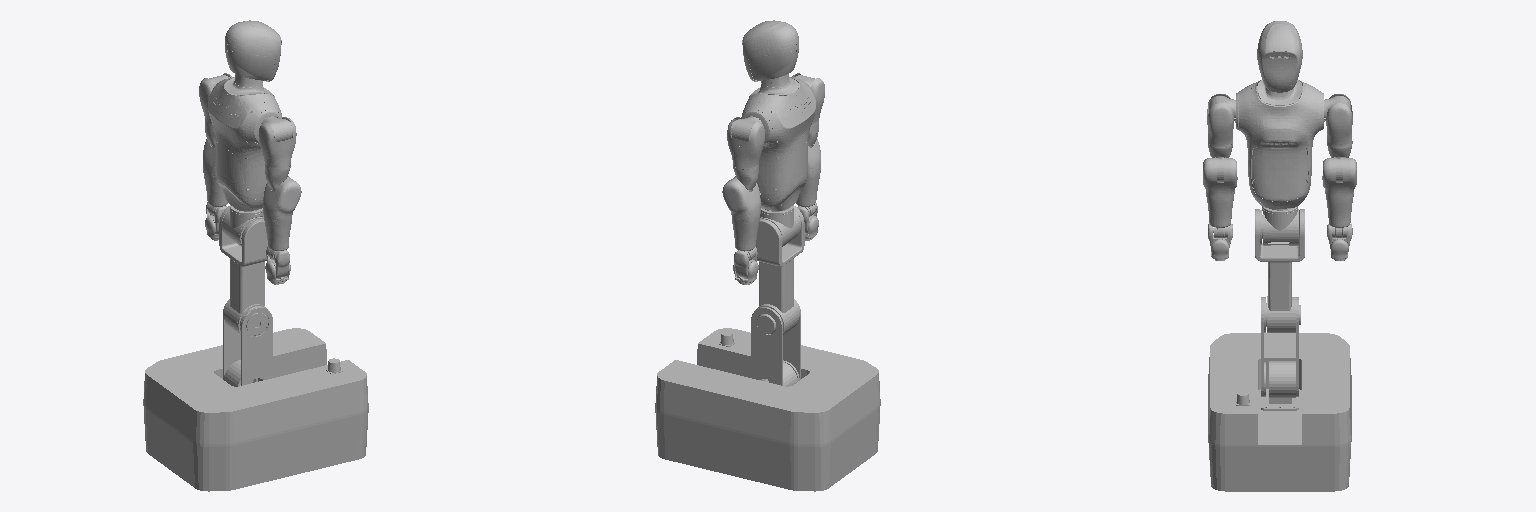
--- Render facts (derived) ---
Views: 3 orthographic renders of the robot side by side, from view 1: azimuth 30°, elevation 25°; view 2: azimuth 150°, elevation 25°; view 3: azimuth 270°, elevation 25°.
Robot: x100_with_rohand_lites — 52 links, 51 joints (36 revolute, 15 fixed); root link base_link; default pose: every joint at zero.
Visible links, largest first — view 1: base_link, torso_link, waist_pitch_middle_link, head_pitch_link, waist_pitch_lower_link, right_elbow_link, right_shoulder_roll_link, waist_pitch_upper_link, right_wrist_roll_link, left_wrist_roll_link; view 2: base_link, torso_link, waist_pitch_middle_link, head_pitch_link, waist_pitch_lower_link, left_shoulder_roll_link, left_elbow_link, waist_pitch_upper_link, left_wrist_roll_link, right_wrist_roll_link; view 3: base_link, torso_link, waist_pitch_middle_link, head_pitch_link, waist_base_link, waist_pitch_upper_link, right_shoulder_roll_link, left_shoulder_roll_link, left_elbow_link, right_elbow_link, right_wrist_roll_link, left_wrist_roll_link (+1 smaller).
Boxes of the visible links, box(x1,y1,x2,y2) form: base_link: box(143, 328, 368, 491); torso_link: box(208, 77, 282, 210); waist_pitch_middle_link: box(219, 206, 267, 335); head_pitch_link: box(225, 20, 281, 81); waist_pitch_lower_link: box(223, 299, 272, 385); right_elbow_link: box(263, 176, 301, 220); right_shoulder_roll_link: box(258, 117, 296, 169); waist_pitch_upper_link: box(222, 202, 263, 246); right_wrist_roll_link: box(263, 214, 291, 260); left_wrist_roll_link: box(203, 170, 227, 216); base_link: box(655, 328, 880, 491); torso_link: box(741, 77, 815, 210); waist_pitch_middle_link: box(756, 206, 804, 334); head_pitch_link: box(742, 20, 798, 81); waist_pitch_lower_link: box(751, 299, 800, 385); left_shoulder_roll_link: box(727, 117, 764, 169); left_elbow_link: box(722, 176, 760, 220); waist_pitch_upper_link: box(760, 202, 800, 246); left_wrist_roll_link: box(732, 215, 759, 260); right_wrist_roll_link: box(796, 170, 820, 216); base_link: box(1208, 333, 1351, 491); torso_link: box(1235, 80, 1324, 208); waist_pitch_middle_link: box(1255, 209, 1304, 332); head_pitch_link: box(1257, 21, 1302, 92); waist_base_link: box(1261, 361, 1298, 410); waist_pitch_upper_link: box(1262, 200, 1298, 245); right_shoulder_roll_link: box(1207, 94, 1233, 146); left_shoulder_roll_link: box(1326, 94, 1352, 146); left_elbow_link: box(1322, 158, 1356, 196); right_elbow_link: box(1203, 158, 1237, 196); right_wrist_roll_link: box(1206, 193, 1234, 237); left_wrist_roll_link: box(1325, 193, 1353, 237).
Size in the robot's own frame: 0.68 by 0.54 by 1.65 metres.
Meshes: 52 distinct files referenced, 28 mesh visuals loaded (28 binary STL); not drawn: 24 (reference not matched to a file when rendering).

robot.urdf — x100_with_rohand_lites:
<?xml version="1.0" encoding="utf-8"?>

<robot name="x100_with_rohand_lites">

  <link name="base_link">
    <visual>
      <origin xyz="0 0 0" rpy="0 0 0" />
      <geometry>
        <mesh filename="package://x100_description/mesh/meshes_x100/base_link.STL" />
      </geometry>
      <material name="">
        <color rgba="0.752941176470588 0.752941176470588 0.752941176470588 1" />
      </material>
    </visual>
    <collision>
      <origin xyz="0 0 0" rpy="0 0 0" />
      <geometry>
        <mesh filename="package://x100_description/mesh/meshes_x100/base_link.STL" />
      </geometry>
    </collision>
  </link>
  <!-- <link name="floor_link">
    <inertial>
      <origin xyz="0 0 0" rpy="0 0 0" />
      <mass value="0.0001" />
      <inertia ixx="9.6e-06" ixy="0.0" ixz="0.0" iyy="9.6e-06" iyz="0.0" izz="9.6e-06" />
    </inertial>
    <visual>
    <origin xyz="0 0 0" rpy="0 0 0" />
      <geometry>
        <sphere radius="0.05"/>
      </geometry>
      <material name="">
        <color rgba="0.1 0.4 0.1 1" />
      </material>
    </visual>
  </link>
  <joint name="floor_joint" type="fixed" dont_collapse="true">
    <origin xyz="0.0 0.0 -0.18" rpy="0 0 0" />
    <parent link="base_link" />
    <child link="floor_link" />
  </joint> -->

  <link name="AGV_yaw_left_link">
    <inertial>
      <origin xyz="-2.20127873151732E-08 -0.0308114801670985 -0.0545910530423015" rpy="0 0 0" />
      <mass value="0.245281608487464" />
      <inertia ixx="0.000503753735624281" ixy="4.10082374702644E-10" ixz="1.937854081737E-10" iyy="0.000417106600465128" iyz="-0.000178452953060026" izz="0.000165582706992007" />
    </inertial>
    <visual>
      <origin xyz="0 0 0" rpy="0 0 0" />
      <geometry>
        <mesh filename="package://x100_description/mesh/meshes_x100/AGV_yaw_left_link.STL" />
      </geometry>
      <material name="">
        <color rgba="0.862745098039216 0.549019607843137 0.545098039215686 1" />
      </material>
    </visual>
    <collision>
      <origin xyz="0 0 0" rpy="0 0 0" />
      <geometry>
        <mesh filename="package://x100_description/mesh/meshes_x100/AGV_yaw_left_link.STL" />
      </geometry>
    </collision>
  </link>
  <joint name="AGV_yaw_left_joint" type="fixed">
    <origin xyz="0.23812 0.16 0.0025" rpy="0 0 0" />
    <parent link="base_link" />
    <child link="AGV_yaw_left_link" />
  </joint>
  <link name="AGV_move_left_link">
    <inertial>
      <origin xyz="1.3125436945649E-06 0.000669578114391972 -6.87249532782541E-07" rpy="0 0 0" />
      <mass value="1.69111524658837" />
      <inertia ixx="0.00346749257557015" ixy="1.24371544208643E-07" ixz="3.99749317493181E-08" iyy="0.00664551858147923" iyz="-6.96591659784327E-08" izz="0.00346752087830564" />
    </inertial>
    <visual>
      <origin xyz="0 0 0" rpy="0 0 0" />
      <geometry>
        <mesh filename="package://x100_description/mesh/meshes_x100/AGV_move_left_link.STL" />
      </geometry>
      <material name="">
        <color rgba="0.752941176470588 0.752941176470588 0.752941176470588 1" />
      </material>
    </visual>
    <collision>
      <origin xyz="0 0 0" rpy="0 0 0" />
      <geometry>
        <mesh filename="package://x100_description/mesh/meshes_x100/AGV_move_left_link.STL" />
      </geometry>
    </collision>
  </link>
  <joint name="AGV_move_left_joint" type="fixed">
    <origin xyz="0 0.003 -0.113" rpy="0 0 0" />
    <parent link="AGV_yaw_left_link" />
    <child link="AGV_move_left_link" />
  </joint>
  <link name="AGV_yaw_right_link">
    <inertial>
      <origin xyz="2.21773192865538E-08 0.0308107310557345 -0.0545906819417435" rpy="0 0 0" />
      <mass value="0.245284643073316" />
      <inertia ixx="0.000503766633726159" ixy="1.98479609326591E-10" ixz="-2.27302245478898E-10" iyy="0.000417108589011739" iyz="0.000178458897580688" izz="0.000165591414689412" />
    </inertial>
    <visual>
      <origin xyz="0 0 0" rpy="0 0 0" />
      <geometry>
        <mesh filename="package://x100_description/mesh/meshes_x100/AGV_yaw_right_link.STL" />
      </geometry>
      <material name="">
        <color rgba="0.862745098039216 0.549019607843137 0.545098039215686 1" />
      </material>
    </visual>
    <collision>
      <origin xyz="0 0 0" rpy="0 0 0" />
      <geometry>
        <mesh filename="package://x100_description/mesh/meshes_x100/AGV_yaw_right_link.STL" />
      </geometry>
    </collision>
  </link>
  <joint name="AGV_yaw_right_joint" type="fixed">
    <origin xyz="0.23812 -0.16 0.0025" rpy="0 0 0" />
    <parent link="base_link" />
    <child link="AGV_yaw_right_link" />
  </joint>
  <link name="AGV_move_right_link">
    <inertial>
      <origin xyz="3.60312727376577E-07 -0.000669578114401742 -1.4472475801941E-06" rpy="0 0 0" />
      <mass value="1.69111524658912" />
      <inertia ixx="0.00346753700500628" ixy="-3.9833827483275E-08" ixz="2.96899812584189E-08" iyy="0.00664551858147842" iyz="1.36855657825959E-07" izz="0.0034674764488687" />
    </inertial>
    <visual>
      <origin xyz="0 0 0" rpy="0 0 0" />
      <geometry>
        <mesh filename="package://x100_description/mesh/meshes_x100/AGV_move_right_link.STL" />
      </geometry>
      <material name="">
        <color rgba="0.752941176470588 0.752941176470588 0.752941176470588 1" />
      </material>
    </visual>
    <collision>
      <origin xyz="0 0 0" rpy="0 0 0" />
      <geometry>
        <mesh filename="package://x100_description/mesh/meshes_x100/AGV_move_right_link.STL" />
      </geometry>
    </collision>
  </link>
  <joint name="AGV_move_right_joint" type="fixed">
    <origin xyz="0 -0.003 -0.113" rpy="0 0 0" />
    <parent link="AGV_yaw_right_link" />
    <child link="AGV_move_right_link" />
  </joint>
  <link name="AGV_yaw_behind_link">
    <inertial>
      <origin xyz="-2.20127576722184E-08 -0.030811480167095 -0.0545910530423015" rpy="0 0 0" />
      <mass value="0.245281608487463" />
      <inertia ixx="0.00050375373562428" ixy="4.10082557039496E-10" ixz="1.93785730569901E-10" iyy="0.000417106600465126" iyz="-0.000178452953060025" izz="0.000165582706992006" />
    </inertial>
    <visual>
      <origin xyz="0 0 0" rpy="0 0 0" />
      <geometry>
        <mesh filename="package://x100_description/mesh/meshes_x100/AGV_yaw_behind_link.STL" />
      </geometry>
      <material name="">
        <color rgba="0.862745098039216 0.549019607843137 0.545098039215686 1" />
      </material>
    </visual>
    <collision>
      <origin xyz="0 0 0" rpy="0 0 0" />
      <geometry>
        <mesh filename="package://x100_description/mesh/meshes_x100/AGV_yaw_behind_link.STL" />
      </geometry>
    </collision>
  </link>
  <joint name="AGV_yaw_behind_joint" type="fixed">
    <origin xyz="-0.23812 0 0.0025" rpy="0 0 0" />
    <parent link="base_link" />
    <child link="AGV_yaw_behind_link" />
  </joint>
  <link name="AGV_move_behind_link">
    <inertial>
      <origin xyz="-6.00844289960767E-07 0.000669578114403075 -1.36504100609058E-06" rpy="0 0 0" />
      <mass value="1.69111524658924" />
      <inertia ixx="0.0034675253215695" ixy="-6.24954542992371E-08" ixz="-3.81116268341795E-08" iyy="0.00664551858147844" iyz="-1.28103564388489E-07" izz="0.0034674881323055" />
    </inertial>
    <visual>
      <origin xyz="0 0 0" rpy="0 0 0" />
      <geometry>
        <mesh filename="package://x100_description/mesh/meshes_x100/AGV_move_behind_link.STL" />
      </geometry>
      <material name="">
        <color rgba="0.752941176470588 0.752941176470588 0.752941176470588 1" />
      </material>
    </visual>
    <collision>
      <origin xyz="0 0 0" rpy="0 0 0" />
      <geometry>
        <mesh filename="package://x100_description/mesh/meshes_x100/AGV_move_behind_link.STL" />
      </geometry>
    </collision>
  </link>
  <joint name="AGV_move_behind_joint" type="fixed">
    <origin xyz="0 0.003 -0.113" rpy="0 0 0" />
    <parent link="AGV_yaw_behind_link" />
    <child link="AGV_move_behind_link" />
  </joint>
  <link name="waist_base_link">
    <inertial>
      <origin xyz="2.09526840322383E-13 0.00265003390392317 0.0524998502660636" rpy="0 0 0" />
      <mass value="1.49396139233906" />
      <inertia ixx="0.00496258543415969" ixy="-1.13293216718744E-15" ixz="1.04959160440269E-14" iyy="0.00631292060029423" iyz="-0.000129244440401722" izz="0.00402504155232433" />
    </inertial>
    <visual>
      <origin xyz="0 0 0" rpy="0 0 0" />
      <geometry>
        <mesh filename="package://x100_description/mesh/meshes_x100/waist_base_link.STL" />
      </geometry>
      <material name="">
        <color rgba="0.752941176470588 0.752941176470588 0.752941176470588 1" />
      </material>
    </visual>
    <collision>
      <origin xyz="0 0 0" rpy="0 0 0" />
      <geometry>
        <mesh filename="package://x100_description/mesh/meshes_x100/waist_base_link.STL" />
      </geometry>
    </collision>
  </link>
  <joint name="waist_base_joint" type="fixed">
    <origin xyz="-0.033123 0 0" rpy="0 0 0" />
    <parent link="base_link" />
    <child link="waist_base_link" />
    <axis xyz="0 0 0" />
  </joint>
  <link name="waist_pitch_lower_link">
    <inertial>
      <origin xyz="2.96984659087229E-15 -0.0141552313426734 0.124999999999997" rpy="0 0 0" />
      <mass value="2.27314251059694" />
      <inertia ixx="0.0131039481721402" ixy="-4.53990923117907E-19" ixz="-2.62714093901037E-15" iyy="0.0162447317794585" iyz="1.61157118440538E-18" izz="0.00317648335707216" />
    </inertial>
    <visual>
      <origin xyz="0 0 0" rpy="0 0 0" />
      <geometry>
        <mesh filename="package://x100_description/mesh/meshes_x100/waist_pitch_lower_link.STL" />
      </geometry>
      <material name="">
        <color rgba="0.752941176470588 0.752941176470588 0.752941176470588 1" />
      </material>
    </visual>
    <collision>
      <origin xyz="0 0 0" rpy="0 0 0" />
      <geometry>
        <mesh filename="package://x100_description/mesh/meshes_x100/waist_pitch_lower_link.STL" />
      </geometry>
    </collision>
  </link>
  <joint name="waist_pitch_lower_joint" type="fixed">
    <origin xyz="0 0 0.083" rpy="0 0 0" />
    <parent link="waist_base_link" />
    <child link="waist_pitch_lower_link" />
    <axis xyz="0 1 0" />
    <limit lower="-0.26" upper="1.58" effort="20" velocity="1.5" acceleration="3.0" />
  </joint>
  <link name="waist_pitch_middle_link">
    <inertial>
      <origin xyz="5.09321188148226E-07 -0.000209304781470008 0.101942053324824" rpy="0 0 0" />
      <mass value="5.43354669139441" />
      <inertia ixx="0.013154147426128" ixy="-9.19180998800125E-08" ixz="1.36829596153063E-07" iyy="0.0148906837969918" iyz="-3.11776079023088E-06" izz="0.00923980974272249" />
    </inertial>
    <visual>
      <origin xyz="0 0 0" rpy="0 0 0" />
      <geometry>
        <mesh filename="package://x100_description/mesh/meshes_x100/waist_pitch_middle_link.STL" />
      </geometry>
      <material name="">
        <color rgba="0.752941176470588 0.752941176470588 0.752941176470588 1" />
      </material>
    </visual>
    <collision>
      <origin xyz="0 0 0" rpy="0 0 0" />
      <geometry>
        <mesh filename="package://x100_description/mesh/meshes_x100/waist_pitch_middle_link.STL" />
      </geometry>
    </collision>
  </link>
  <joint name="waist_pitch_middle_joint" type="fixed">
    <origin xyz="0 0 0.25" rpy="0 0 0" />
    <parent link="waist_pitch_lower_link" />
    <child link="waist_pitch_middle_link" />
    <axis xyz="0 1 0" />
    <limit lower="-2.62" upper="1.58" effort="20" velocity="1.5" acceleration="3.0" />
  </joint>
  <link name="waist_pitch_upper_link">
    <inertial>
      <origin xyz="-0.000145504008478729 0.00493260548813689 0.0485823662178412" rpy="0 0 0" />
      <mass value="5.38731120662336" />
      <inertia ixx="0.01" ixy="0" ixz="0" iyy="0.01" iyz="0" izz="0.01" />
    </inertial>
    <visual>
      <origin xyz="0 0 0" rpy="0 0 0" />
      <geometry>
        <mesh filename="package://x100_description/mesh/meshes_x100/waist_pitch_upper_link.STL" />
      </geometry>
      <material name="">
        <color rgba="0.752941176470588 0.752941176470588 0.752941176470588 1" />
      </material>
    </visual>
    <collision>
      <origin xyz="0 0 0" rpy="0 0 0" />
      <geometry>
        <mesh filename="package://x100_description/mesh/meshes_x100/waist_pitch_upper_link.STL" />
      </geometry>
    </collision>
  </link>
  <joint name="waist_pitch_upper_joint" type="fixed">
    <origin xyz="0 0 0.34" rpy="0 0 0" />
    <parent link="waist_pitch_middle_link" />
    <child link="waist_pitch_upper_link" />
    <axis xyz="0 1 0" />
    <limit lower="-1.75" upper="1.75" effort="20" velocity="1.5" acceleration="3.0" />
  </joint>
  <link name="torso_link">
    <inertial>
      <origin xyz="4.33469348894155E-05 -6.59120500852507E-09 0.193501192535377" rpy="0 0 0" />
      <mass value="9.64909156541158" />
      <inertia ixx="0.041134238011689" ixy="2.43191640635395E-11" ixz="1.74260275070872E-07" iyy="0.0404085995567576" iyz="-4.83252761210217E-08" izz="0.00912370613854259" />
    </inertial>
    <visual>
      <origin xyz="0 0 0" rpy="0 0 0" />
      <geometry>
        <mesh filename="package://x100_description/mesh/meshes_x100/torso_link.STL" />
      </geometry>
      <material name="">
        <color rgba="0.752941176470588 0.752941176470588 0.752941176470588 1" />
      </material>
    </visual>
    <collision>
      <origin xyz="0 0 0" rpy="0 0 0" />
      <geometry>
        <mesh filename="package://x100_description/mesh/meshes_x100/torso_link.STL" />
      </geometry>
    </collision>
  </link>
  <joint name="torso_joint" type="fixed">
    <origin xyz="0 0 0.1921" rpy="0 0 0" />
    <parent link="waist_pitch_upper_link" />
    <child link="torso_link" />
  </joint>
  <link name="head_yaw_link">
    <inertial>
      <origin xyz="0.0275842176371693 0.00217561201075011 0.0500852030582835" rpy="0 0 0" />
      <mass value="0.627068603775774" />
      <inertia ixx="0.000290069729963355" ixy="6.30683945111433E-19" ixz="4.73629825279625E-06" iyy="0.00029461278597458" iyz="-6.11635629331064E-20" izz="0.000305874917451081" />
    </inertial>
    <visual>
      <origin xyz="0 0 0" rpy="0 0 0" />
      <geometry>
        <mesh filename="package://x100_description/mesh/meshes_x100/head_yaw_link.STL" />
      </geometry>
      <material name="">
        <color rgba="0.752941176470588 0.752941176470588 0.752941176470588 1" />
      </material>
    </visual>
    <collision>
      <origin xyz="0 0 0" rpy="0 0 0" />
      <geometry>
        <mesh filename="package://x100_description/mesh/meshes_x100/head_yaw_link.STL" />
      </geometry>
    </collision>
  </link>
  <joint name="head_yaw_joint" type="fixed">
    <origin xyz="0 0 0.372" rpy="0 0 0" />
    <parent link="torso_link" />
    <child link="head_yaw_link" />
  </joint>
  <link name="head_pitch_link">
    <inertial>
      <origin xyz="-0.00267989529824948 -0.000252755812069182 0.0657034221106612" rpy="0 0 0" />
      <mass value="0.3980723351526" />
      <inertia ixx="0.000428232869052577" ixy="-5.48580750729812E-07" ixz="3.45478422004712E-05" iyy="0.000400329046827211" iyz="-1.1368304582303E-06" izz="0.000294783298626689" />
    </inertial>
    <visual>
      <origin xyz="0 0 0" rpy="0 0 0" />
      <geometry>
        <mesh filename="package://x100_description/mesh/meshes_x100/head_pitch_link.STL" />
      </geometry>
      <material name="">
        <color rgba="0.752941176470588 0.752941176470588 0.752941176470588 1" />
      </material>
    </visual>
    <collision>
      <origin xyz="0 0 0" rpy="0 0 0" />
      <geometry>
        <mesh filename="package://x100_description/mesh/meshes_x100/head_pitch_link.STL" />
      </geometry>
    </collision>
  </link>
  <joint name="head_pitch_joint" type="fixed">
    <origin xyz="0.035 0 0.059" rpy="0 0 0" />
    <parent link="head_yaw_link" />
    <child link="head_pitch_link" />
  </joint>
  <link name="right_shoulder_pitch_link">
    <inertial>
      <origin xyz="-0.00367675986297206 -0.0542463290286199 2.58812120668139E-06" rpy="0 0 0" />
      <mass value="0.848985464266451" />
      <inertia ixx="0.00101435274555589" ixy="-6.52592313780756E-06" ixz="-2.67015667645939E-09" iyy="0.000703710291045494" iyz="-5.55773825089475E-08" izz="0.000777317035946405" />
    </inertial>
    <visual>
      <origin xyz="0 0 0" rpy="0 0 0" />
      <geometry>
        <mesh filename="package://x100_description/mesh/meshes_x100/right_shoulder_pitch_link.STL" />
      </geometry>
      <material name="">
        <color rgba="0.752941176470588 0.752941176470588 0.752941176470588 1" />
      </material>
    </visual>
    <collision>
      <origin xyz="0 0 0" rpy="0 0 0" />
      <geometry>
        <mesh filename="package://x100_description/mesh/meshes_x100/right_shoulder_pitch_link.STL" />
      </geometry>
    </collision>
  </link>
  <joint name="right_shoulder_pitch_joint" type="revolute">
    <origin xyz="0 -0.1476 0.2615" rpy="0 0 0" />
    <parent link="torso_link" />
    <child link="right_shoulder_pitch_link" />
    <axis xyz="0 1 0" />
    <limit lower="-2.97" upper="2.97" effort="10" velocity="1.5" acceleration="3.0" />
  </joint>
  <link name="right_shoulder_roll_link">
    <inertial>
      <origin xyz="-0.00238241924076597 -1.78570058793348E-05 -0.0802603066944463" rpy="0 0 0" />
      <mass value="0.933711800407855" />
      <inertia ixx="0.00119865742149175" ixy="-6.83313664569594E-09" ixz="7.82145055807086E-05" iyy="0.00144607852532589" iyz="-7.44656033059175E-08" izz="0.000879151973489193" />
    </inertial>
    <visual>
      <origin xyz="0 0 0" rpy="0 0 0" />
      <geometry>
        <mesh filename="package://x100_description/mesh/meshes_x100/right_shoulder_roll_link.STL" />
      </geometry>
      <material name="">
        <color rgba="0.752941176470588 0.752941176470588 0.752941176470588 1" />
      </material>
    </visual>
    <collision>
      <origin xyz="0 0 0" rpy="0 0 0" />
      <geometry>
        <mesh filename="package://x100_description/mesh/meshes_x100/right_shoulder_roll_link.STL" />
      </geometry>
    </collision>
  </link>
  <joint name="right_shoulder_roll_joint" type="revolute">
    <origin xyz="0 -0.062 0" rpy="0 0 0" />
    <parent link="right_shoulder_pitch_link" />
    <child link="right_shoulder_roll_link" />
    <axis xyz="-1 0 0" />
    <limit lower="-0.1" upper="3.23" effort="10" velocity="1.5" acceleration="3.0" />
  </joint>
  <link name="right_shoulder_yaw_link">
    <inertial>
      <origin xyz="0.0189918826968868 0.00594635691085862 -0.085403773275452" rpy="0 0 0" />
      <mass value="0.434423544379079" />
      <inertia ixx="0.000408182306507528" ixy="2.16892318900535E-06" ixz="6.02795239356358E-05" iyy="0.000586839962048929" iyz="-3.71823771866569E-06" izz="0.000256135143070958" />
    </inertial>
    <visual>
      <origin xyz="0 0 0" rpy="0 0 0" />
      <geometry>
        <mesh filename="package://x100_description/mesh/meshes_x100/right_shoulder_yaw_link.STL" />
      </geometry>
      <material name="">
        <color rgba="0.752941176470588 0.752941176470588 0.752941176470588 1" />
      </material>
    </visual>
    <collision>
      <origin xyz="0 0 0" rpy="0 0 0" />
      <geometry>
        <mesh filename="package://x100_description/mesh/meshes_x100/right_shoulder_yaw_link.STL" />
      </geometry>
    </collision>
  </link>
  <joint name="right_shoulder_yaw_joint" type="revolute">
    <origin xyz="0 0 -0.1226" rpy="0 0 0" />
    <parent link="right_shoulder_roll_link" />
    <child link="right_shoulder_yaw_link" />
    <axis xyz="0 0 1" />
    <limit lower="-2.97" upper="2.97" effort="10" velocity="1.5" acceleration="3.0" />
  </joint>
  <link name="right_elbow_link">
    <inertial>
      <origin xyz="-0.019682834096401 0.00614384016014732 -0.0604081681694035" rpy="0 0 0" />
      <mass value="0.58376847457249" />
      <inertia ixx="0.000342571414101762" ixy="-3.1037867572582E-07" ixz="-3.94693000973267E-05" iyy="0.000378503966929614" iyz="1.06104636163208E-06" izz="0.000235756043947694" />
    </inertial>
    <visual>
      <origin xyz="0 0 0" rpy="0 0 0" />
      <geometry>
        <mesh filename="package://x100_description/mesh/meshes_x100/right_elbow_link.STL" />
      </geometry>
      <material name="">
        <color rgba="0.752941176470588 0.752941176470588 0.752941176470588 1" />
      </material>
    </visual>
    <collision>
      <origin xyz="0 0 0" rpy="0 0 0" />
      <geometry>
        <mesh filename="package://x100_description/mesh/meshes_x100/right_elbow_link.STL" />
      </geometry>
    </collision>
  </link>
  <joint name="right_elbow_joint" type="revolute">
    <origin xyz="0.024 0 -0.0974" rpy="0 0 0" />
    <parent link="right_shoulder_yaw_link" />
    <child link="right_elbow_link" />
    <axis xyz="0 1 0" />
    <limit lower="-2.93" upper="0" effort="10" velocity="1.5" acceleration="3.0" />
  </joint>
  <link name="right_wrist_roll_link">
    <inertial>
      <origin xyz="6.33741171502528E-06 0.00322995701196074 -0.0870317620723344" rpy="0 0 0" />
      <mass value="0.50628831282003" />
      <inertia ixx="0.000647960138543212" ixy="2.39225855360338E-08" ixz="3.85045712031872E-08" iyy="0.000771891906211482" iyz="1.41932992276395E-06" izz="0.000159980806279759" />
    </inertial>
    <visual>
      <origin xyz="0 0 0" rpy="0 0 0" />
      <geometry>
        <mesh filename="package://x100_description/mesh/meshes_x100/right_wrist_roll_link.STL" />
      </geometry>
      <material name="">
        <color rgba="0.752941176470588 0.752941176470588 0.752941176470588 1" />
      </material>
    </visual>
    <collision>
      <origin xyz="0 0 0" rpy="0 0 0" />
      <geometry>
        <mesh filename="package://x100_description/mesh/meshes_x100/right_wrist_roll_link.STL" />
      </geometry>
    </collision>
  </link>
  <joint name="right_wrist_roll_joint" type="revolute">
    <origin xyz="-0.024 0 -0.1071" rpy="0 0 0" />
    <parent link="right_elbow_link" />
    <child link="right_wrist_roll_link" />
    <axis xyz="0 0 1" />
    <limit lower="-2.97" upper="2.97" effort="10" velocity="1.5" acceleration="3.0" />
  </joint>
  <link name="right_wrist_pitch_link">
    <inertial>
      <origin xyz="0.00692425572694247 -0.000314175932120797 -0.0445846340712968" rpy="0 0 0" />
      <mass value="0.267350739628338" />
      <inertia ixx="0.000151332196130114" ixy="-7.35240847816505E-07" ixz="-1.245851354345E-06" iyy="9.72372255189296E-05" iyz="-1.69762837430636E-05" izz="7.60269950821654E-05" />
    </inertial>
    <visual>
      <origin xyz="0 0 0" rpy="0 0 0" />
      <geometry>
        <mesh filename="package://x100_description/mesh/meshes_x100/right_wrist_pitch_link.STL" />
      </geometry>
      <material name="">
        <color rgba="0.752941176470588 0.752941176470588 0.752941176470588 1" />
      </material>
    </visual>
    <collision>
      <origin xyz="0 0 0" rpy="0 0 0" />
      <geometry>
        <mesh filename="package://x100_description/mesh/meshes_x100/right_wrist_pitch_link.STL" />
      </geometry>
    </collision>
  </link>
  <joint name="right_wrist_pitch_joint" type="revolute">
    <origin xyz="0 -5E-05 -0.1389" rpy="0 0 0" />
    <parent link="right_wrist_roll_link" />
    <child link="right_wrist_pitch_link" />
    <axis xyz="0 1 0" />
    <limit lower="-1.83" upper="1.83" effort="10" velocity="1.5" acceleration="3.0" />
  </joint>
  <link name="right_wrist_yaw_link">
    <inertial>
      <origin xyz="-0.00113349353882937 0.000182092284429197 -0.0313472200645663" rpy="0 0 0" />
      <mass value="0.111035645621271" />
      <inertia ixx="3.38338924623756E-05" ixy="1.24787404345728E-12" ixz="-6.25606490323498E-06" iyy="4.01749527734222E-05" iyz="1.39960038102222E-07" izz="4.39077979186707E-05" />
    </inertial>
    <visual>
      <origin xyz="0 0 0" rpy="0 0 0" />
      <geometry>
        <mesh filename="package://x100_description/mesh/meshes_x100/right_wrist_yaw_link.STL" />
      </geometry>
      <material name="">
        <color rgba="0.752941176470588 0.752941176470588 0.752941176470588 1" />
      </material>
    </visual>
    <collision>
      <origin xyz="0 0 0" rpy="0 0 0" />
      <geometry>
        <mesh filename="package://x100_description/mesh/meshes_x100/right_wrist_yaw_link.STL" />
      </geometry>
    </collision>
  </link>
  <joint name="right_wrist_yaw_joint" type="revolute">
    <origin xyz="-0.00235 5E-05 -0.054" rpy="0 0 0" />
    <parent link="right_wrist_pitch_link" />
    <child link="right_wrist_yaw_link" />
    <axis xyz="1 0 0" />
    <limit lower="-1.57" upper="1.57" effort="10" velocity="1.5" acceleration="3.0" />
  </joint>
  <link name="left_shoulder_pitch_link">
    <inertial>
      <origin xyz="0.00367675986297346 0.0542463290286198 2.58812120934593E-06" rpy="0 0 0" />
      <mass value="0.848985464266447" />
      <inertia ixx="0.00101435274555589" ixy="-6.52592313780649E-06" ixz="2.67015667694552E-09" iyy="0.000703710291045487" iyz="5.55773825079637E-08" izz="0.000777317035946401" />
    </inertial>
    <visual>
      <origin xyz="0 0 0" rpy="0 0 0" />
      <geometry>
        <mesh filename="package://x100_description/mesh/meshes_x100/left_shoulder_pitch_link.STL" />
      </geometry>
      <material name="">
        <color rgba="0.752941176470588 0.752941176470588 0.752941176470588 1" />
      </material>
    </visual>
    <collision>
      <origin xyz="0 0 0" rpy="0 0 0" />
      <geometry>
        <mesh filename="package://x100_description/mesh/meshes_x100/left_shoulder_pitch_link.STL" />
      </geometry>
    </collision>
  </link>
  <joint name="left_shoulder_pitch_joint" type="revolute">
    <origin xyz="0 0.1476 0.2615" rpy="0 0 0" />
    <parent link="torso_link" />
    <child link="left_shoulder_pitch_link" />
    <axis xyz="0 1 0" />
    <limit lower="-2.97" upper="2.97" effort="10" velocity="1.5" acceleration="3.0" />
  </joint>
  <link name="left_shoulder_roll_link">
    <inertial>
      <origin xyz="0.00238241927309023 1.78571130299288E-05 -0.0802603069606076" rpy="0 0 0" />
      <mass value="0.933711806710216" />
      <inertia ixx="0.00119865742150416" ixy="-6.8331452308249E-09" ixz="-7.82145056337858E-05" iyy="0.00144607852706074" iyz="7.44654864441209E-08" izz="0.000879151975219498" />
    </inertial>
    <visual>
      <origin xyz="0 0 0" rpy="0 0 0" />
      <geometry>
        <mesh filename="package://x100_description/mesh/meshes_x100/left_shoulder_roll_link.STL" />
      </geometry>
      <material name="">
        <color rgba="0.752941176470588 0.752941176470588 0.752941176470588 1" />
      </material>
    </visual>
    <collision>
      <origin xyz="0 0 0" rpy="0 0 0" />
      <geometry>
        <mesh filename="package://x100_description/mesh/meshes_x100/left_shoulder_roll_link.STL" />
      </geometry>
    </collision>
  </link>
  <joint name="left_shoulder_roll_joint" type="revolute">
    <origin xyz="0 0.062 0" rpy="0 0 0" />
    <parent link="left_shoulder_pitch_link" />
    <child link="left_shoulder_roll_link" />
    <axis xyz="1 0 0" />
    <limit lower="-0.1" upper="3.23" effort="10" velocity="1.5" acceleration="3.0" />
  </joint>
  <link name="left_shoulder_yaw_link">
    <inertial>
      <origin xyz="0.0189918829302687 0.00594635656039608 -0.0854037727048453" rpy="0 0 0" />
      <mass value="0.43442353862093" />
      <inertia ixx="0.000408182305701526" ixy="2.16892334074131E-06" ixz="6.02795231435692E-05" iyy="0.000586839960456974" iyz="-3.71823751035217E-06" izz="0.000256135142270292" />
    </inertial>
    <visual>
      <origin xyz="0 0 0" rpy="0 0 0" />
      <geometry>
        <mesh filename="package://x100_description/mesh/meshes_x100/left_shoulder_yaw_link.STL" />
      </geometry>
      <material name="">
        <color rgba="0.752941176470588 0.752941176470588 0.752941176470588 1" />
      </material>
    </visual>
    <collision>
      <origin xyz="0 0 0" rpy="0 0 0" />
      <geometry>
        <mesh filename="package://x100_description/mesh/meshes_x100/left_shoulder_yaw_link.STL" />
      </geometry>
    </collision>
  </link>
  <joint name="left_shoulder_yaw_joint" type="revolute">
    <origin xyz="0 0 -0.1226" rpy="0 0 0" />
    <parent link="left_shoulder_roll_link" />
    <child link="left_shoulder_yaw_link" />
    <axis xyz="0 0 1" />
    <limit lower="-2.97" upper="2.97" effort="10" velocity="1.5" acceleration="3.0" />
  </joint>
  <link name="left_elbow_link">
    <inertial>
      <origin xyz="-0.0196828338193763 0.0061438404656593 -0.0604081675829152" rpy="0 0 0" />
      <mass value="0.583768481365716" />
      <inertia ixx="0.000342571334166883" ixy="-3.103786399656E-07" ixz="-3.94692997000234E-05" iyy="0.000378503572130911" iyz="1.0610462595637E-06" izz="0.000235755565732729" />
    </inertial>
    <visual>
      <origin xyz="0 0 0" rpy="0 0 0" />
      <geometry>
        <mesh filename="package://x100_description/mesh/meshes_x100/left_elbow_link.STL" />
      </geometry>
      <material name="">
        <color rgba="0.752941176470588 0.752941176470588 0.752941176470588 1" />
      </material>
    </visual>
    <collision>
      <origin xyz="0 0 0" rpy="0 0 0" />
      <geometry>
        <mesh filename="package://x100_description/mesh/meshes_x100/left_elbow_link.STL" />
      </geometry>
    </collision>
  </link>
  <joint name="left_elbow_joint" type="revolute">
    <origin xyz="0.024 0 -0.0974" rpy="0 0 0" />
    <parent link="left_shoulder_yaw_link" />
    <child link="left_elbow_link" />
    <axis xyz="0 1 0" />
    <limit lower="-2.93" upper="0" effort="10" velocity="1.5" acceleration="3.0" />
  </joint>
  <link name="left_wrist_roll_link">
    <inertial>
      <origin xyz="6.33741555387118E-06 0.00322995701444354 -0.0870317620689255" rpy="0 0 0" />
      <mass value="0.506288312825421" />
      <inertia ixx="0.000647960138446467" ixy="2.39225898712566E-08" ixz="3.85046178915717E-08" iyy="0.00077189190611103" iyz="1.41932991467436E-06" izz="0.00015998080628097" />
    </inertial>
    <visual>
      <origin xyz="0 0 0" rpy="0 0 0" />
      <geometry>
        <mesh filename="package://x100_description/mesh/meshes_x100/left_wrist_roll_link.STL" />
      </geometry>
      <material name="">
        <color rgba="0.752941176470588 0.752941176470588 0.752941176470588 1" />
      </material>
    </visual>
    <collision>
      <origin xyz="0 0 0" rpy="0 0 0" />
      <geometry>
        <mesh filename="package://x100_description/mesh/meshes_x100/left_wrist_roll_link.STL" />
      </geometry>
    </collision>
  </link>
  <joint name="left_wrist_roll_joint" type="revolute">
    <origin xyz="-0.024 0 -0.1071" rpy="0 0 0" />
    <parent link="left_elbow_link" />
    <child link="left_wrist_roll_link" />
    <axis xyz="0 0 1" />
    <limit lower="-2.97" upper="2.97" effort="10" velocity="1.5" acceleration="3.0" />
  </joint>
  <link name="left_wrist_pitch_link">
    <inertial>
      <origin xyz="0.0069242557337307 -0.000314175944311268 -0.0445846339748781" rpy="0 0 0" />
      <mass value="0.267350738654715" />
      <inertia ixx="0.000151332195823477" ixy="-7.35240854432935E-07" ixz="-1.24585131717319E-06" iyy="9.72372252181943E-05" iyz="-1.69762837953283E-05" izz="7.60269950666379E-05" />
    </inertial>
    <visual>
      <origin xyz="0 0 0" rpy="0 0 0" />
      <geometry>
        <mesh filename="package://x100_description/mesh/meshes_x100/left_wrist_pitch_link.STL" />
      </geometry>
      <material name="">
        <color rgba="0.752941176470588 0.752941176470588 0.752941176470588 1" />
      </material>
    </visual>
    <collision>
      <origin xyz="0 0 0" rpy="0 0 0" />
      <geometry>
        <mesh filename="package://x100_description/mesh/meshes_x100/left_wrist_pitch_link.STL" />
      </geometry>
    </collision>
  </link>
  <joint name="left_wrist_pitch_joint" type="revolute">
    <origin xyz="0 -5E-05 -0.1389" rpy="0 0 0" />
    <parent link="left_wrist_roll_link" />
    <child link="left_wrist_pitch_link" />
    <axis xyz="0 1 0" />
    <limit lower="-1.83" upper="1.83" effort="10" velocity="1.5" acceleration="3.0" />
  </joint>
  <link name="left_wrist_yaw_link">
    <inertial>
      <origin xyz="-0.00348349377502552 0.000182092284442215 -0.0313472200645634" rpy="0 0 0" />
      <mass value="0.111035645621272" />
      <inertia ixx="3.38338924623758E-05" ixy="1.24787410720316E-12" ixz="-6.25606490323477E-06" iyy="4.01749527734219E-05" iyz="1.39960038102022E-07" izz="4.39077979186708E-05" />
    </inertial>
    <visual>
      <origin xyz="0 0 0" rpy="0 0 0" />
      <geometry>
        <mesh filename="package://x100_description/mesh/meshes_x100/left_wrist_yaw_link.STL" />
      </geometry>
      <material name="">
        <color rgba="0.752941176470588 0.752941176470588 0.752941176470588 1" />
      </material>
    </visual>
    <collision>
      <origin xyz="0 0 0" rpy="0 0 0" />
      <geometry>
        <mesh filename="package://x100_description/mesh/meshes_x100/left_wrist_yaw_link.STL" />
      </geometry>
    </collision>
  </link>
  <joint name="left_wrist_yaw_joint" type="revolute">
    <origin xyz="0 5E-05 -0.054" rpy="0 0 0" />
    <parent link="left_wrist_pitch_link" />
    <child link="left_wrist_yaw_link" />
    <axis xyz="1 0 0" />
    <limit lower="-1.57" upper="1.57" effort="10" velocity="1.5" acceleration="3.0" />
  </joint>


<!-- left hand -->



  <joint name="L_base_link_joint" type="fixed">
    <origin xyz="0 0 -0.054" rpy="0 -1.57 -1.57"/>
    <parent link="left_wrist_yaw_link"/>
    <child link="L_hand_base_link"/>
  </joint>
  
  
  <link name="L_hand_base_link">
    <inertial>
      <origin xyz="-0.0545705623202243 0.000958522654081762 -0.00306438373173582" rpy="0 0 0" />
      <mass value="0.0367658161456593" />
      <inertia ixx="1.4186714203091E-05" ixy="2.20190989146005E-06" ixz="5.69534967571968E-07"
               iyy="1.58584689691376E-05" iyz="1.24561852404914E-07" izz="2.47326344757226E-05" />
    </inertial>
    <visual>
      <origin xyz="0 0 0" rpy="0 0 0" />
      <geometry>
        <mesh filename="package://x100_description/mesh/meshes_rohand_lites/L_base_link.STL" />
      </geometry>
      <material name="">
        <color rgba="1 1 1 1" />
      </material>
    </visual>
    <collision>
      <origin xyz="0 0 0" rpy="0 0 0" />
      <geometry>
        <mesh filename="package://x100_description/mesh/meshes_rohand_lites/L_base_link.STL" />
      </geometry>
    </collision>
  </link>

  <link name="L_thumb_proximal_base">
    <inertial>
      <origin xyz="-0.0191689187756942 0.00569828615821762 -0.0016693852678177" rpy="0 0 0" />
      <mass value="0.00195345377003282" />
      <inertia ixx="1.6596112048292E-07" ixy="7.96099037248168E-08" ixz="-1.16578799172214E-08"
               iyy="1.8147620690714E-07" iyz="1.22841840818757E-08" izz="2.16329221955122E-07" />
    </inertial>
    <visual>
      <origin xyz="0 0 0" rpy="0 0 0" />
      <geometry>
        <mesh filename="package://x100_description/mesh/meshes_rohand_lites/L_th_root_link.STL" />
      </geometry>
      <material name="">
        <color rgba="1 1 1 1" />
      </material>
    </visual>
    <collision>
      <origin xyz="0 0 0" rpy="0 0 0" />
      <geometry>
        <mesh filename="package://x100_description/mesh/meshes_rohand_lites/L_th_root_link.STL" />
      </geometry>
    </collision>
  </link>

  <joint name="L_thumb_proximal_yaw_joint" type="revolute">
    <origin xyz="-0.02474 0.01826 -0.019216" rpy="0.0075757 -0.22303 -0.034238" />
    <parent link="L_hand_base_link" />
    <child link="L_thumb_proximal_base" />
    <axis xyz="-1 0 0" />
    <limit lower="-0.1" upper="1.7" effort="1" velocity="2.0" acceleration="5.0" />
  </joint>

  <link name="L_thumb_proximal">
    <inertial>
      <origin xyz="-0.0185320909111181 0.00765760336647799 0.00769895948516403" rpy="0 0 0" />
      <mass value="0.00646398971921865" />
      <inertia ixx="5.69701043131816E-07" ixy="4.94299712334608E-07" ixz="-1.81638866874203E-09"
               iyy="1.67594826700605E-06" iyz="5.54953034071743E-10" izz="2.12783428410059E-06" />
    </inertial>
    <visual>
      <origin xyz="0 0 0" rpy="0 0 0" />
      <geometry>
        <mesh filename="package://x100_description/mesh/meshes_rohand_lites/L_th_proximal_link.STL" />
      </geometry>
      <material name="">
        <color rgba="1 1 1 1" />
      </material>
    </visual>
    <collision>
      <origin xyz="0 0 0" rpy="0 0 0" />
      <geometry>
        <mesh filename="package://x100_description/mesh/meshes_rohand_lites/L_th_proximal_link.STL" />
      </geometry>
    </collision>
  </link>

  <joint name="L_thumb_proximal_pitch_joint" type="revolute">
    <origin xyz="-0.0281675109233723 0.0206776396558676 -0.010414259606288" rpy="-0.00721290411178693 0.000240878411888333 0.0333895499404722" />
    <parent link="L_thumb_proximal_base" />
    <child link="L_thumb_proximal" />
    <axis xyz="0 0 1" />
    <limit lower="0.0" upper="0.4" effort="1" velocity="2.0" acceleration="5.0" />
  </joint>

  <link name="L_thumb_distal">
    <inertial>
      <origin xyz="-0.00904754564000706 0.00635260162604825 0.00681129533264973" rpy="0 0 0" />
      <mass value="0.00464616025042038" />
      <inertia ixx="1.73155668678773E-07" ixy="2.14376248212519E-08" ixz="7.68875433779967E-12"
               iyy="2.35273874670456E-07" iyz="-7.75559011609892E-13" izz="2.09949102085074E-07" />
    </inertial>
    <visual>
      <origin xyz="0 0 0" rpy="0 0 0" />
      <geometry>
        <mesh filename="package://x100_description/mesh/meshes_rohand_lites/L_th_distal_link.STL" />
      </geometry>
      <material name="">
        <color rgba="1 1 1 1" />
      </material>
    </visual>
    <collision>
      <origin xyz="0 0 0" rpy="0 0 0" />
      <geometry>
        <mesh filename="package://x100_description/mesh/meshes_rohand_lites/L_th_distal_link.STL" />
      </geometry>
    </collision>
  </link>

  <joint name="L_thumb_distal_joint" type="revolute">
    <origin xyz="-0.0479097598406365 0.0140073523016571 0.000879436248969738" rpy="0 0 0" />
    <parent link="L_thumb_proximal" />
    <child link="L_thumb_distal" />
    <axis xyz="0 0 1" />
    <limit lower="0" upper="1.2" effort="1" velocity="2.0" acceleration="5.0" />
    <mimic joint="L_thumb_proximal_pitch_joint" multiplier="1.0" offset="0" />
  </joint>

  <link name="L_index_proximal">
    <inertial>
      <origin xyz="-0.01442568349862 0.00682000254611658 0.0074253497626635" rpy="0 0 0" />
      <mass value="0.0020519557292877" />
      <inertia ixx="8.09627570327931E-08" ixy="4.81487284472085E-12" ixz="2.82088862566871E-08"
               iyy="1.89814037862563E-07" iyz="-4.52934896397488E-12" izz="1.96626325307393E-07" />
    </inertial>
    <visual>
      <origin xyz="0 0 0" rpy="0 0 0" />
      <geometry>
        <mesh filename="package://x100_description/mesh/meshes_rohand_lites/L_if_proximal_link.STL" />
      </geometry>
      <material name="">
        <color rgba="1 1 1 1" />
      </material>
    </visual>
    <collision>
      <origin xyz="0 0 0" rpy="0 0 0" />
      <geometry>
        <mesh filename="package://x100_description/mesh/meshes_rohand_lites/L_if_proximal_link.STL" />
      </geometry>
    </collision>
  </link>

<!-- Note: 坐标轴x旋转了180度，暂时改旋转轴向 -->
  <joint name="L_index_proximal_joint" type="revolute">
    <origin xyz="-0.10628 0.036856 -0.0014156" rpy="3.0548 -0.0091764 -0.10508" />
    <parent link="L_hand_base_link" />
    <child link="L_index_proximal" />
    <axis xyz="0 1 0" />
    <limit lower="0" upper="1.2" effort="1" velocity="2.0" acceleration="5.0" />
  </joint>

  <link name="L_index_intermediate">
    <inertial>
      <origin xyz="-0.0123180967294782 -0.00644820912302179 -0.0158568630315067" rpy="0 0 0" />
      <mass value="0.00375858037616174" />
      <inertia ixx="2.63130516542119E-07" ixy="-2.88831462706391E-10" ixz="-1.76316850016938E-07"
               iyy="4.17185892023749E-07" iyz="-3.2422000909467E-10" izz="2.11620474724111E-07" />
    </inertial>
    <visual>
      <origin xyz="0 0 0" rpy="0 0 0" />
      <geometry>
        <mesh filename="package://x100_description/mesh/meshes_rohand_lites/L_if_distal_link.STL" />
      </geometry>
      <material name="">
        <color rgba="1 1 1 1" />
      </material>
    </visual>
    <collision>
      <origin xyz="0 0 0" rpy="0 0 0" />
      <geometry>
        <mesh filename="package://x100_description/mesh/meshes_rohand_lites/L_if_distal_link.STL" />
      </geometry>
    </collision>
  </link>

  <joint name="L_index_intermediate_joint" type="revolute">
    <origin xyz="-0.030939 0.00036803 0.010438" rpy="3.1416 0 0" />
    <parent link="L_index_proximal" />
    <child link="L_index_intermediate" />
    <axis xyz="0 -1 0" />
    <limit lower="0" upper="1.7" effort="1" velocity="2.0" acceleration="5.0" />
    <mimic joint="L_index_proximal_joint" multiplier="1" offset="0" />
  </joint>

  <link name="L_middle_proximal">
    <inertial>
      <origin xyz="-0.0163278718217205 -0.00649192295378876 -0.00963335617479526" rpy="0 0 0" />
      <mass value="0.00248819746655502" />
      <inertia ixx="1.10601992595461E-07" ixy="4.54446489000609E-11" ixz="-6.04962189304454E-08"
               iyy="2.84385954136736E-07" iyz="4.48881092592545E-11" izz="2.73053329475105E-07" />
    </inertial>
    <visual>
      <origin xyz="0 0 0" rpy="0 0 0" />
      <geometry>
        <mesh filename="package://x100_description/mesh/meshes_rohand_lites/L_mf_proximal_link.STL" />
      </geometry>
      <material name="">
        <color rgba="1 1 1 1" />
      </material>
    </visual>
    <collision>
      <origin xyz="0 0 0" rpy="0 0 0" />
      <geometry>
        <mesh filename="package://x100_description/mesh/meshes_rohand_lites/L_mf_proximal_link.STL" />
      </geometry>
    </collision>
  </link>

  <joint name="L_middle_proximal_joint" type="revolute">
    <origin xyz="-0.11015 0.018475 0.0030758" rpy="0.00016503 0 -0.035692" />
    <parent link="L_hand_base_link" />
    <child link="L_middle_proximal" />
    <axis xyz="0 -1 0" />
    <limit lower="0" upper="1.2" effort="1" velocity="2.0" acceleration="5.0" />
  </joint>

  <link name="L_middle_intermediate">
    <inertial>
      <origin xyz="-0.0117763908650274 -0.00644267727147304 -0.0162627454095642" rpy="0 0 0" />
      <mass value="0.00375852857432825" />
      <inertia ixx="2.74945310213643E-07" ixy="-2.76421249981728E-10" ixz="-1.74176296887232E-07"
               iyy="4.17175733749449E-07" iyz="-3.32560853157935E-10" izz="1.99795426402673E-07" />
    </inertial>
    <visual>
      <origin xyz="0 0 0" rpy="0 0 0" />
      <geometry>
        <mesh filename="package://x100_description/mesh/meshes_rohand_lites/L_mf_distal_link.STL" />
      </geometry>
      <material name="">
        <color rgba="1 1 1 1" />
      </material>
    </visual>
    <collision>
      <origin xyz="0 0 0" rpy="0 0 0" />
      <geometry>
        <mesh filename="package://x100_description/mesh/meshes_rohand_lites/L_mf_distal_link.STL" />
      </geometry>
    </collision>
  </link>

  <joint name="L_middle_intermediate_joint" type="revolute">
    <origin xyz="-0.034844 -5.0349E-05 -0.013726" rpy="0.0043984 0.00019026 -0.0075363" />
    <parent link="L_middle_proximal" />
    <child link="L_middle_intermediate" />
    <axis xyz="0 -1 0" />
    <limit lower="0" upper="1.7" effort="1" velocity="2.0" acceleration="5.0" />
    <mimic joint="L_middle_proximal_joint" multiplier="1" offset="0" />
  </joint>

  <link name="L_ring_proximal">
    <inertial>
      <origin xyz="-0.0143563671796693 0.00681998649341342 0.00755846536702151" rpy="0 0 0" />
      <mass value="0.00205195671379772" />
      <inertia ixx="8.14944652395064E-08" ixy="4.70955665732311E-12" ixz="2.92740657063271E-08"
               iyy="1.89813738079667E-07" iyz="-4.49039618473885E-12" izz="1.96094351731653E-07" />
    </inertial>
    <visual>
      <origin xyz="0 0 0" rpy="0 0 0" />
      <geometry>
        <mesh filename="package://x100_description/mesh/meshes_rohand_lites/L_rf_proximal_link.STL" />
      </geometry>
      <material name="">
        <color rgba="1 1 1 1" />
      </material>
    </visual>
    <collision>
      <origin xyz="0 0 0" rpy="0 0 0" />
      <geometry>
        <mesh filename="package://x100_description/mesh/meshes_rohand_lites/L_rf_proximal_link.STL" />
      </geometry>
    </collision>
  </link>

<!-- Note: 坐标轴x旋转了180度，暂时改旋转轴向 -->
  <joint name="L_ring_proximal_joint" type="revolute">
    <origin xyz="-0.10852 0.00052975 0.0024009" rpy="3.1414 0 0.034153" />
    <parent link="L_hand_base_link" />
    <child link="L_ring_proximal" />
    <axis xyz="0 1 0" />
    <limit lower="0" upper="1.2" effort="1" velocity="2.0" acceleration="5.0" />
  </joint>

  <link name="L_ring_intermediate">
    <inertial>
      <origin xyz="-0.0121730609739191 -0.00644820716902625 -0.0159684309110027" rpy="0 0 0" />
      <mass value="0.00375858491630908" />
      <inertia ixx="2.66337255501028E-07" ixy="-2.83461617317305E-10" ixz="-1.75817185730185E-07"
               iyy="4.1718477440461E-07" iyz="-3.26281131146206E-10" izz="2.08412424444304E-07" />
    </inertial>
    <visual>
      <origin xyz="0 0 0" rpy="0 0 0" />
      <geometry>
        <mesh filename="package://x100_description/mesh/meshes_rohand_lites/L_rf_distal_link.STL" />
      </geometry>
      <material name="">
        <color rgba="1 1 1 1" />
      </material>
    </visual>
    <collision>
      <origin xyz="0 0 0" rpy="0 0 0" />
      <geometry>
        <mesh filename="package://x100_description/mesh/meshes_rohand_lites/L_rf_distal_link.STL" />
      </geometry>
    </collision>
  </link>

  <joint name="L_ring_intermediate_joint" type="revolute">
    <origin xyz="-0.030791 0.00036828 0.010696" rpy="-3.1374 0.00011174 0.0076423" />
    <parent link="L_ring_proximal" />
    <child link="L_ring_intermediate" />
    <axis xyz="0 -1 0" />
    <limit lower="0" upper="1.7" effort="1" velocity="2.0" acceleration="5.0" />
    <mimic joint="L_ring_proximal_joint" multiplier="1" offset="0" />
  </joint>

  <link name="L_pinky_proximal">
    <inertial>
      <origin xyz="-0.0126783172515542 -0.00650017197922771 -0.00752321049293611" rpy="0 0 0" />
      <mass value="0.00183703203876047" />
      <inertia ixx="7.28737257765291E-08" ixy="2.35202799697226E-12" ixz="-2.23948893152069E-08"
               iyy="1.40967655054569E-07" iyz="-1.69318267527159E-13" izz="1.47027755964671E-07" />
    </inertial>
    <visual>
      <origin xyz="0 0 0" rpy="0 0 0" />
      <geometry>
        <mesh filename="package://x100_description/mesh/meshes_rohand_lites/L_lf_proximal_link.STL" />
      </geometry>
      <material name="">
        <color rgba="1 1 1 1" />
      </material>
    </visual>
    <collision>
      <origin xyz="0 0 0" rpy="0 0 0" />
      <geometry>
        <mesh filename="package://x100_description/mesh/meshes_rohand_lites/L_lf_proximal_link.STL" />
      </geometry>
    </collision>
  </link>

  <joint name="L_pinky_proximal_joint" type="revolute">
    <origin xyz="-0.10588 -0.01818 0.00065724" rpy="0.08682 -0.0083534 0.09568" />
    <parent link="L_hand_base_link" />
    <child link="L_pinky_proximal" />
    <axis xyz="0 -1 0" />
    <limit lower="0" upper="1.2" effort="1" velocity="2.0" acceleration="5.0" />
  </joint>

  <link name="L_pinky_intermediate">
    <inertial>
      <origin xyz="-0.00651882753544765 -0.00644854835323535 -0.0135103943691352" rpy="0 0 0" />
      <mass value="0.00243586918410262" />
      <inertia ixx="1.19172237830121E-07" ixy="-9.23092755649748E-11" ixz="-4.29645591151488E-08"
               iyy="1.418248902462E-07" iyz="-1.66762811141822E-10" izz="5.41634126707913E-08" />
    </inertial>
    <visual>
      <origin xyz="0 0 0" rpy="0 0 0" />
      <geometry>
        <mesh filename="package://x100_description/mesh/meshes_rohand_lites/L_lf_distal_link.STL" />
      </geometry>
      <material name="">
        <color rgba="1 1 1 1" />
      </material>
    </visual>
    <collision>
      <origin xyz="0 0 0" rpy="0 0 0" />
      <geometry>
        <mesh filename="package://x100_description/mesh/meshes_rohand_lites/L_lf_distal_link.STL" />
      </geometry>
    </collision>
  </link>

  <joint name="L_pinky_intermediate_joint" type="revolute">
    <origin xyz="-0.026922 -5.0837E-05 -0.010935" rpy="0 0 0" />
    <parent link="L_pinky_proximal" />
    <child link="L_pinky_intermediate" />
    <axis xyz="0 -1 0" />
    <limit lower="0" upper="1.7" effort="1" velocity="2.0" acceleration="5.0" />
    <mimic joint="L_pinky_proximal_joint" multiplier="1" offset="0" />
  </joint>


<!-- right hand -->


  <joint name="R_base_link_joint" type="fixed">
    <origin xyz="0 0 -0.049" rpy="0 -1.57 1.57"/>
    <parent link="right_wrist_yaw_link"/>
    <child link="R_hand_base_link"/>
  </joint>
  

  <link name="R_hand_base_link">
    <inertial>
      <origin xyz="-0.0576030661180955 0.00233560896319593 -0.00133218779459777" rpy="0 0 0" />
      <mass value="0.0493249140792959" />
      <inertia ixx="1.94571823302338E-05" ixy="-1.38729153384568E-06" ixz="1.07807983669446E-06"
               iyy="2.67719341990073E-05" iyz="-3.07356342974464E-07" izz="4.02773132726367E-05" />
    </inertial>
    <visual>
      <origin xyz="0 0 0" rpy="0 0 0" />
      <geometry>
        <mesh filename="package://x100_description/mesh/meshes_rohand_lites/R_base_link.STL" />
      </geometry>
      <material name="">
        <color rgba="1 1 1 1" />
      </material>
    </visual>
    <collision>
      <origin xyz="0 0 0" rpy="0 0 0" />
      <geometry>
        <mesh filename="package://x100_description/mesh/meshes_rohand_lites/R_base_link.STL" />
      </geometry>
    </collision>
  </link>

  <link name="R_thumb_proximal_base">
    <inertial>
      <origin xyz="-0.0191686509683619 -0.00572418793751744 -0.00158132841516827" rpy="0 0 0" />
      <mass value="0.00195350966248874" />
      <inertia ixx="1.65972225377993E-07" ixy="-7.97825490860689E-08" ixz="-1.04261831309922E-08"
               iyy="1.8111092952085E-07" iyz="-1.1733271461248E-08" izz="2.16718599283951E-07" />
    </inertial>
    <visual>
      <origin xyz="0 0 0" rpy="0 0 0" />
      <geometry>
        <mesh filename="package://x100_description/mesh/meshes_rohand_lites/R_th_root_link.STL" />
      </geometry>
      <material name="">
        <color rgba="1 1 1 1" />
      </material>
    </visual>
    <collision>
      <origin xyz="0 0 0" rpy="0 0 0" />
      <geometry>
        <mesh filename="package://x100_description/mesh/meshes_rohand_lites/R_th_root_link.STL" />
      </geometry>
    </collision>
  </link>

  <joint name="R_thumb_proximal_yaw_joint" type="revolute">
    <origin xyz="-0.025954 -0.01648 -0.019186" rpy="0.0078865 -0.22303 -0.035641" />
    <parent link="R_hand_base_link" />
    <child link="R_thumb_proximal_base" />
    <axis xyz="1 0 0" />
    <limit lower="-0.1" upper="1.7" effort="1" velocity="2.0" acceleration="5.0" />
  </joint>

  <link name="R_thumb_proximal">
    <inertial>
      <origin xyz="-0.0190126820702974 -0.00637807841543053 0.00769785866417869" rpy="0 0 0" />
      <mass value="0.00646388849033333" />
      <inertia ixx="5.07687345462868E-07" ixy="-4.14559349698037E-07" ixz="-1.8674365709823E-09"
               iyy="1.73768654791953E-06" iyz="-4.20029512218484E-10" izz="2.12756394178572E-06" />
    </inertial>
    <visual>
      <origin xyz="0 0 0" rpy="0 0 0" />
      <geometry>
        <mesh filename="package://x100_description/mesh/meshes_rohand_lites/R_th_proximal_link.STL" />
      </geometry>
      <material name="">
        <color rgba="1 1 1 1" />
      </material>
    </visual>
    <collision>
      <origin xyz="0 0 0" rpy="0 0 0" />
      <geometry>
        <mesh filename="package://x100_description/mesh/meshes_rohand_lites/R_th_proximal_link.STL" />
      </geometry>
    </collision>
  </link>

  <joint name="R_thumb_proximal_pitch_joint" type="revolute">
    <origin xyz="-0.028168 -0.020837 -0.010094" rpy="-0.0082402 0.00028649 0.034758" />
    <parent link="R_thumb_proximal_base" />
    <child link="R_thumb_proximal" />
    <axis xyz="0 0 -1" />
    <limit lower="0.0" upper="0.4" effort="1" velocity="2.0" acceleration="5.0" />
  </joint>

  <link name="R_thumb_distal">
    <inertial>
      <origin xyz="-0.0094593690473327 -0.0057218027674614 0.0068108911892128" rpy="0 0 0" />
      <mass value="0.00464616536496131" />
      <inertia ixx="1.70526363877279E-07" ixy="-1.70171405060127E-08" ixz="-3.06434125828904E-12"
               iyy="2.37897880292055E-07" iyz="1.31087369006255E-12" izz="2.09937364304614E-07" />
    </inertial>
    <visual>
      <origin xyz="0 0 0" rpy="0 0 0" />
      <geometry>
        <mesh filename="package://x100_description/mesh/meshes_rohand_lites/R_th_distal_link.STL" />
      </geometry>
      <material name="">
        <color rgba="1 1 1 1" />
      </material>
    </visual>
    <collision>
      <origin xyz="0 0 0" rpy="0 0 0" />
      <geometry>
        <mesh filename="package://x100_description/mesh/meshes_rohand_lites/R_th_distal_link.STL" />
      </geometry>
    </collision>
  </link>

  <joint name="R_thumb_distal_joint" type="revolute">
    <origin xyz="-0.048752 -0.010712 0.00087944" rpy="0 0 0" />
    <parent link="R_thumb_proximal" />
    <child link="R_thumb_distal" />
    <axis xyz="0 0 -1" />
    <limit lower="0" upper="1.2" effort="1" velocity="2.0" acceleration="5.0" />
    <mimic joint="R_thumb_proximal_pitch_joint" multiplier="1.0" offset="0" />
  </joint>

  <link name="R_index_proximal">
    <inertial>
      <origin xyz="-0.0143787205756178 0.0068202042615699 -0.00751216413311831" rpy="0 0 0" />
      <mass value="0.00205183706838826" />
      <inertia ixx="8.13016698160853E-08" ixy="1.51094306482205E-11" ixz="-2.88949821390807E-08"
               iyy="1.89783171251403E-07" iyz="4.65572959060812E-12" izz="1.96251769923446E-07" />
    </inertial>
    <visual>
      <origin xyz="0 0 0" rpy="0 0 0" />
      <geometry>
        <mesh filename="package://x100_description/mesh/meshes_rohand_lites/R_if_proximal_link.STL" />
      </geometry>
      <material name="">
        <color rgba="1 1 1 1" />
      </material>
    </visual>
    <collision>
      <origin xyz="0 0 0" rpy="0 0 0" />
      <geometry>
        <mesh filename="package://x100_description/mesh/meshes_rohand_lites/R_if_proximal_link.STL" />
      </geometry>
    </collision>
  </link>

  <joint name="R_index_proximal_joint" type="revolute">
    <origin xyz="-0.10859 -0.029338 -0.0013861" rpy="0.086779 -0.00311 0.035733" />
    <parent link="R_hand_base_link" />
    <child link="R_index_proximal" />
    <axis xyz="0 -1 0" />
    <limit lower="0" upper="1.2" effort="1" velocity="2.0" acceleration="5.0" />
  </joint>

  <link name="R_index_intermediate">
    <inertial>
      <origin xyz="-0.012222373112902 0.00644744577874212 -0.0159308052491082" rpy="0 0 0" />
      <mass value="0.00375868071914677" />
      <inertia ixx="2.6526744005835E-07" ixy="2.68139132185787E-10" ixz="-1.76013365071367E-07"
               iyy="4.17225025361236E-07" iyz="3.16739936806118E-10" izz="2.09518827365182E-07" />
    </inertial>
    <visual>
      <origin xyz="0 0 0" rpy="0 0 0" />
      <geometry>
        <mesh filename="package://x100_description/mesh/meshes_rohand_lites/R_if_distal_link.STL" />
      </geometry>
      <material name="">
        <color rgba="1 1 1 1" />
      </material>
    </visual>
    <collision>
      <origin xyz="0 0 0" rpy="0 0 0" />
      <geometry>
        <mesh filename="package://x100_description/mesh/meshes_rohand_lites/R_if_distal_link.STL" />
      </geometry>
    </collision>
  </link>

  <joint name="R_index_intermediate_joint" type="revolute">
    <origin xyz="-0.030875 0.00036803 -0.010625" rpy="0 0 0" />
    <parent link="R_index_proximal" />
    <child link="R_index_intermediate" />
    <axis xyz="0 -1 0" />
    <limit lower="0" upper="1.7" effort="1" velocity="2.0" acceleration="5.0" />
    <mimic joint="R_index_proximal_joint" multiplier="1" offset="0" />
  </joint>

  <link name="R_middle_proximal">
    <inertial>
      <origin xyz="-0.016329453759154 0.00649226533975397 -0.00963384586033489" rpy="0 0 0" />
      <mass value="0.00248843296883051" />
      <inertia ixx="1.10610510723197E-07" ixy="-5.89496390356217E-11" ixz="-6.05126652788143E-08"
               iyy="2.8446139484122E-07" iyz="-4.21063735821963E-11" izz="2.7312514865437E-07" />
    </inertial>
    <visual>
      <origin xyz="0 0 0" rpy="0 0 0" />
      <geometry>
        <mesh filename="package://x100_description/mesh/meshes_rohand_lites/R_mf_proximal_link.STL" />
      </geometry>
      <material name="">
        <color rgba="1 1 1 1" />
      </material>
    </visual>
    <collision>
      <origin xyz="0 0 0" rpy="0 0 0" />
      <geometry>
        <mesh filename="package://x100_description/mesh/meshes_rohand_lites/R_mf_proximal_link.STL" />
      </geometry>
    </collision>
  </link>

  <joint name="R_middle_proximal_joint" type="revolute">
    <origin xyz="-0.111168350336371 -0.0107315849401363 0.00310533319557881" rpy="-0.000165024105879644 0 -0.0341875332667528" />
    <parent link="R_hand_base_link" />
    <child link="R_middle_proximal" />
    <axis xyz="0 -1 0" />
    <limit lower="0" upper="1.2" effort="1" velocity="2.0" acceleration="5.0" />
  </joint>

  <link name="R_middle_intermediate">
    <inertial>
      <origin xyz="-0.0117807102189178 0.00644198393359627 -0.0162599790204698" rpy="0 0 0" />
      <mass value="0.00375867884267013" />
      <inertia ixx="2.74876926237726E-07" ixy="2.59466981378291E-10" ixz="-1.7421907947615E-07"
               iyy="4.1722285891413E-07" iyz="3.23406111565757E-10" izz="1.99906902685593E-07" />
    </inertial>
    <visual>
      <origin xyz="0 0 0" rpy="0 0 0" />
      <geometry>
        <mesh filename="package://x100_description/mesh/meshes_rohand_lites/R_mf_distal_link.STL" />
      </geometry>
      <material name="">
        <color rgba="1 1 1 1" />
      </material>
    </visual>
    <collision>
      <origin xyz="0 0 0" rpy="0 0 0" />
      <geometry>
        <mesh filename="package://x100_description/mesh/meshes_rohand_lites/R_mf_distal_link.STL" />
      </geometry>
    </collision>
  </link>

  <joint name="R_middle_intermediate_joint" type="revolute">
    <origin xyz="-0.0348440227740655 5.03497035553302E-05 -0.0137271073982339" rpy="-0.00439882751506536 -0.000117257737364924 0.00753742768873965" />
    <parent link="R_middle_proximal" />
    <child link="R_middle_intermediate" />
    <axis xyz="0 -1 0" />
    <limit lower="0" upper="1.7" effort="1" velocity="2.0" acceleration="5.0" />
    <mimic joint="R_middle_proximal_joint" multiplier="1" offset="0" />
  </joint>

  <link name="R_ring_proximal">
    <inertial>
      <origin xyz="-0.0143549280434906 0.00682023657911832 -0.00755778479766486" rpy="0 0 0" />
      <mass value="0.00205187294843744" />
      <inertia ixx="8.14868585707663E-08" ixy="1.41861573407726E-11" ixz="-2.9259876910324E-08"
               iyy="1.89786107772236E-07" iyz="4.79988274178486E-12" izz="1.960702878707E-07" />
    </inertial>
    <visual>
      <origin xyz="0 0 0" rpy="0 0 0" />
      <geometry>
        <mesh filename="package://x100_description/mesh/meshes_rohand_lites/R_rf_proximal_link.STL" />
      </geometry>
      <material name="">
        <color rgba="1 1 1 1" />
      </material>
    </visual>
    <collision>
      <origin xyz="0 0 0" rpy="0 0 0" />
      <geometry>
        <mesh filename="package://x100_description/mesh/meshes_rohand_lites/R_rf_proximal_link.STL" />
      </geometry>
    </collision>
  </link>

  <joint name="R_ring_proximal_joint" type="revolute">
    <origin xyz="-0.10829 0.007056 0.0024304" rpy="0.00015789 1.6485E-05 -0.10403" />
    <parent link="R_hand_base_link" />
    <child link="R_ring_proximal" />
    <axis xyz="0 -1 0" />
    <limit lower="0" upper="1.2" effort="1" velocity="2.0" acceleration="5.0" />
  </joint>

  <link name="R_ring_intermediate">
    <inertial>
      <origin xyz="-0.0121787543720058 0.0064475580290749 -0.0159643969071744" rpy="0 0 0" />
      <mass value="0.00375873422510174" />
      <inertia ixx="2.66234188468105E-07" ixy="2.66619623996111E-10" ixz="-1.75861376428997E-07"
               iyy="4.17230114265725E-07" iyz="3.17193421265111E-10" izz="2.0855875648093E-07" />
    </inertial>
    <visual>
      <origin xyz="0 0 0" rpy="0 0 0" />
      <geometry>
        <mesh filename="package://x100_description/mesh/meshes_rohand_lites/R_rf_distal_link.STL" />
      </geometry>
      <material name="">
        <color rgba="1 1 1 1" />
      </material>
    </visual>
    <collision>
      <origin xyz="0 0 0" rpy="0 0 0" />
      <geometry>
        <mesh filename="package://x100_description/mesh/meshes_rohand_lites/R_rf_distal_link.STL" />
      </geometry>
    </collision>
  </link>

  <joint name="R_ring_intermediate_joint" type="revolute">
    <origin xyz="-0.030791 0.00036828 -0.010696" rpy="-0.0042136 -0.0004074 0.0076437" />
    <parent link="R_ring_proximal" />
    <child link="R_ring_intermediate" />
    <axis xyz="0 -1 0" />
    <limit lower="0" upper="1.7" effort="1" velocity="2.0" acceleration="5.0" />
    <mimic joint="R_ring_proximal_joint" multiplier="1" offset="0" />
  </joint>

  <link name="R_pinky_proximal">
    <inertial>
      <origin xyz="-0.0127241110356107 0.00649957990170523 -0.00744483846071534" rpy="0 0 0" />
      <mass value="0.00183686407359195" />
      <inertia ixx="7.25936420936618E-08" ixy="1.26029064472353E-12" ixz="-2.19325321953627E-08"
               iyy="1.40948330406022E-07" iyz="-3.97609924901949E-13" izz="1.47282231216297E-07" />
    </inertial>
    <visual>
      <origin xyz="0 0 0" rpy="0 0 0" />
      <geometry>
        <mesh filename="package://x100_description/mesh/meshes_rohand_lites/R_lf_proximal_link.STL" />
      </geometry>
      <material name="">
        <color rgba="1 1 1 1" />
      </material>
    </visual>
    <collision>
      <origin xyz="0 0 0" rpy="0 0 0" />
      <geometry>
        <mesh filename="package://x100_description/mesh/meshes_rohand_lites/R_lf_proximal_link.STL" />
      </geometry>
    </collision>
  </link>

  <joint name="R_pinky_proximal_joint" type="revolute">
    <origin xyz="-0.10436 0.025536 0.00068678" rpy="-0.086826 -0.014497 -0.16502" />
    <parent link="R_hand_base_link" />
    <child link="R_pinky_proximal" />
    <axis xyz="0 -1 0" />
    <limit lower="0" upper="1.2" effort="1" velocity="2.0" acceleration="5.0" />
  </joint>

  <link name="R_pinky_intermediate">
    <inertial>
      <origin xyz="-0.00660185291159945 0.00644841570480648 -0.0134694736191499" rpy="0 0 0" />
      <mass value="0.00243556509111398" />
      <inertia ixx="1.18626211477515E-07" ixy="9.45828083556239E-11" ixz="-4.33572574582032E-08"
               iyy="1.41808396396924E-07" iyz="1.67029567238108E-10" izz="5.46901618733586E-08" />
    </inertial>
    <visual>
      <origin xyz="0 0 0" rpy="0 0 0" />
      <geometry>
        <mesh filename="package://x100_description/mesh/meshes_rohand_lites/R_lf_distal_link.STL" />
      </geometry>
      <material name="">
        <color rgba="1 1 1 1" />
      </material>
    </visual>
    <collision>
      <origin xyz="0 0 0" rpy="0 0 0" />
      <geometry>
        <mesh filename="package://x100_description/mesh/meshes_rohand_lites/R_lf_distal_link.STL" />
      </geometry>
    </collision>
  </link>

  <joint name="R_pinky_intermediate_joint" type="revolute">
    <origin xyz="-0.026989 5.0837E-05 -0.010769" rpy="0 0 0" />
    <parent link="R_pinky_proximal" />
    <child link="R_pinky_intermediate" />
    <axis xyz="0 -1 0" />
    <limit lower="0" upper="1.7" effort="1" velocity="2.0" acceleration="5.0" />
    <mimic joint="R_pinky_proximal_joint" multiplier="1" offset="0" />
  </joint>


</robot>
